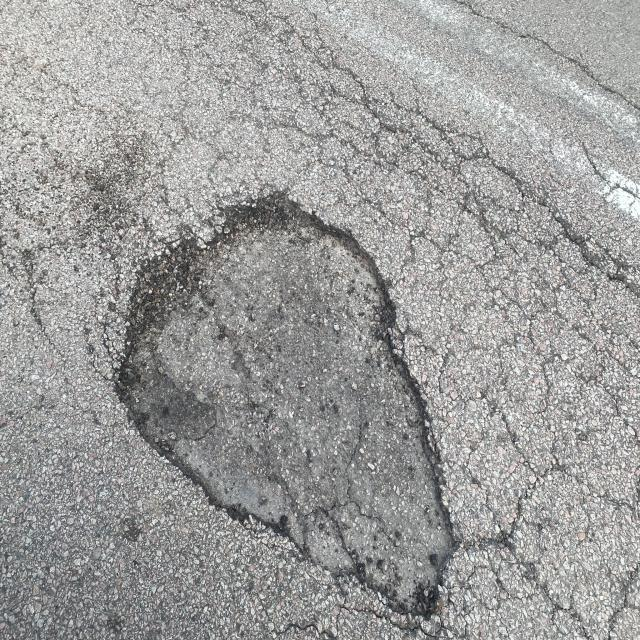Pothole: (99, 160, 570, 640)
